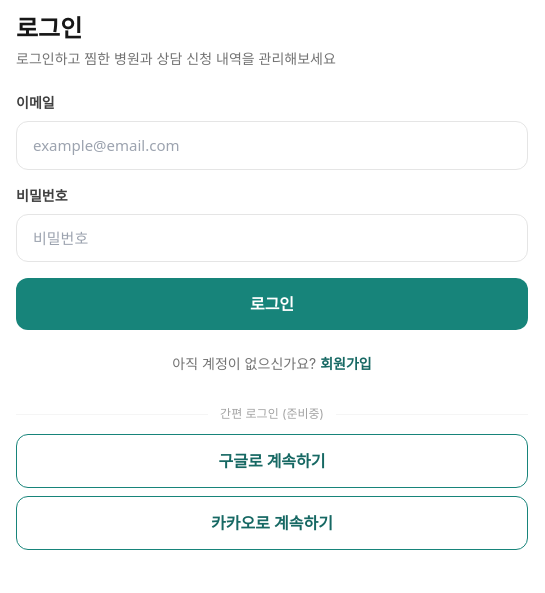
Test: 로그인 화면 — 폼 검증 › 이메일 형식이 틀리면 그 칸 아래에 오류를 표시하고 요청을 보내지 않는다
In the field labelled "이메일": [272, 145] box [16,121,528,170], type "not-an-email"
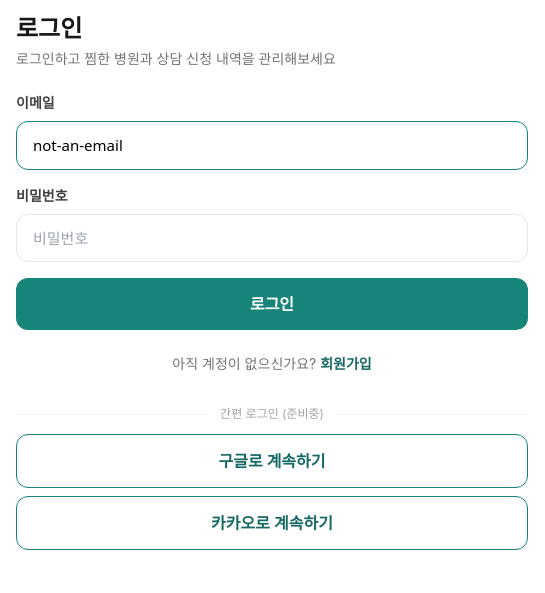
In the password field labelled "비밀번호": [272, 238] box [16,214,528,262], type "pw123456"
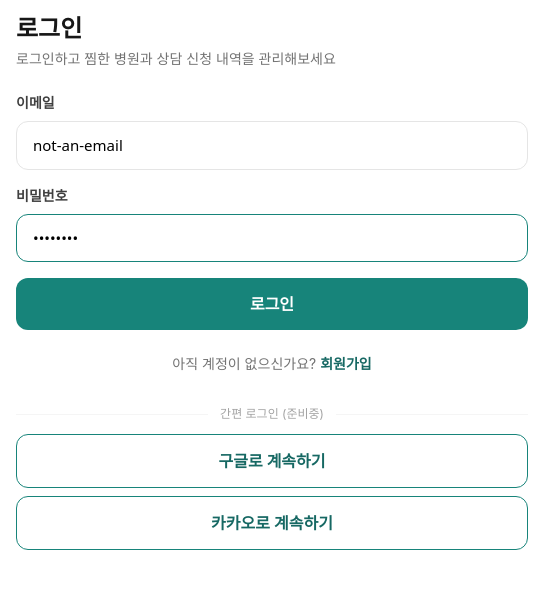
Click the button "로그인": [272, 304] box [16,278,528,330]
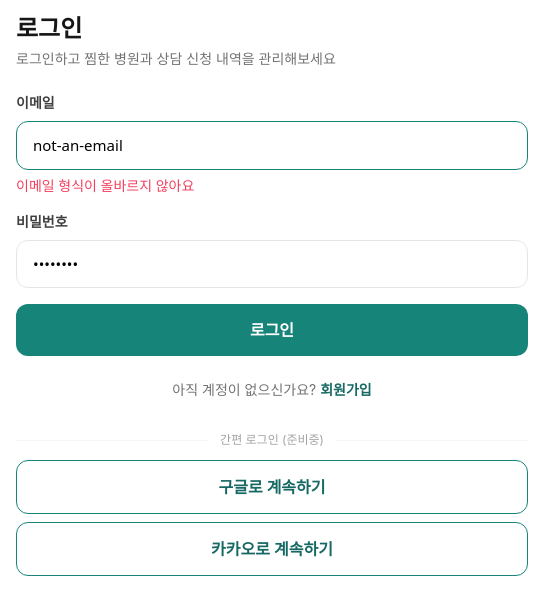
Result: the text "이메일 형식이 올바르지 않아요" is shown at [16,176,194,194]
